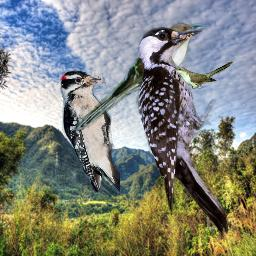Cuckoo: (71, 21, 207, 136), (172, 61, 233, 89)
Woodpecker: (136, 27, 228, 239), (60, 70, 120, 194)
